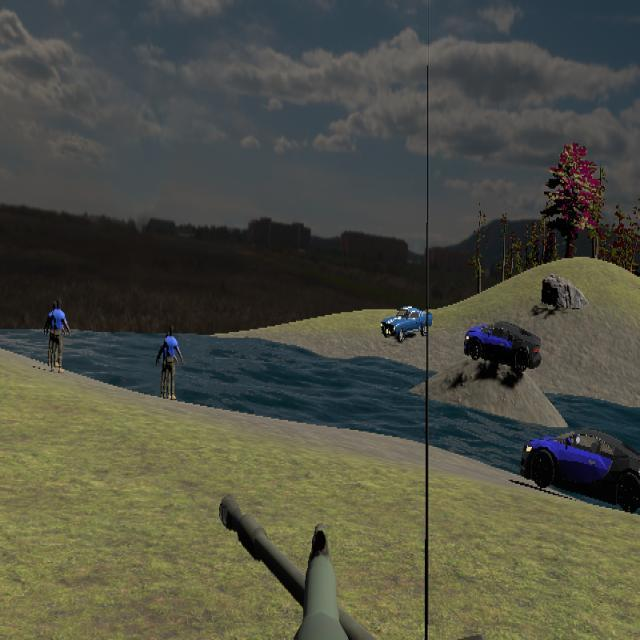Human: (45, 298, 71, 374), (159, 324, 183, 402)
car: (520, 427, 640, 509), (463, 320, 542, 373), (381, 305, 432, 343)
